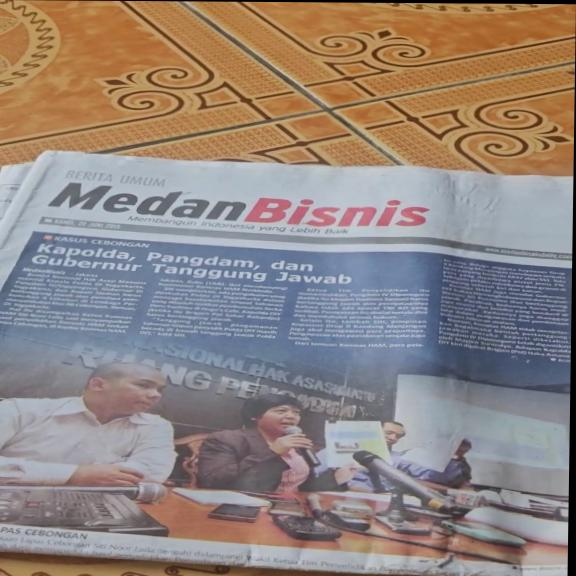Kertas: (0, 174, 565, 552)
